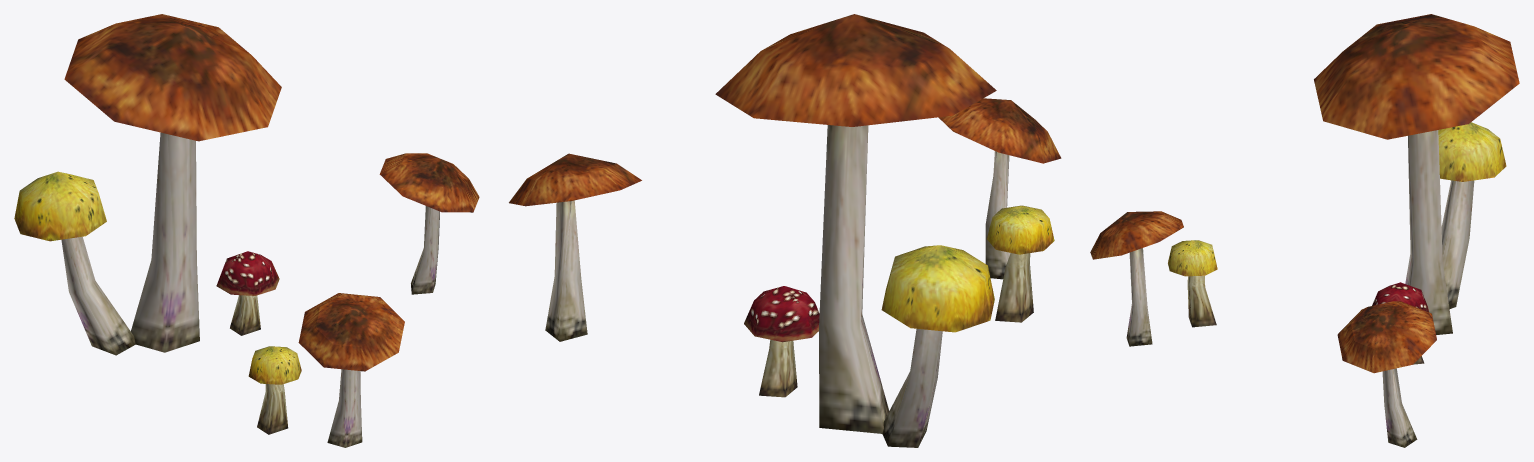
Rendered from mogu_41.FBX.
3 views of the same model, side by side, from view 1: azimuth 30°, elevation 25°; view 2: azimuth 150°, elevation 25°; view 3: azimuth 270°, elevation 25° (orthographic). The views are drawn at different scales.
Parts seen in each view (by area): view 1: mogu_41; view 2: mogu_41; view 3: mogu_41.
Boxes of the visible parts, left/top/right/bottom form: mogu_41: left=14, top=14, right=479, bottom=447; mogu_41: left=509, top=14, right=1061, bottom=447; mogu_41: left=1090, top=14, right=1519, bottom=447.
Size of the model in its own units: 45.1 by 32.96 by 42.35.
